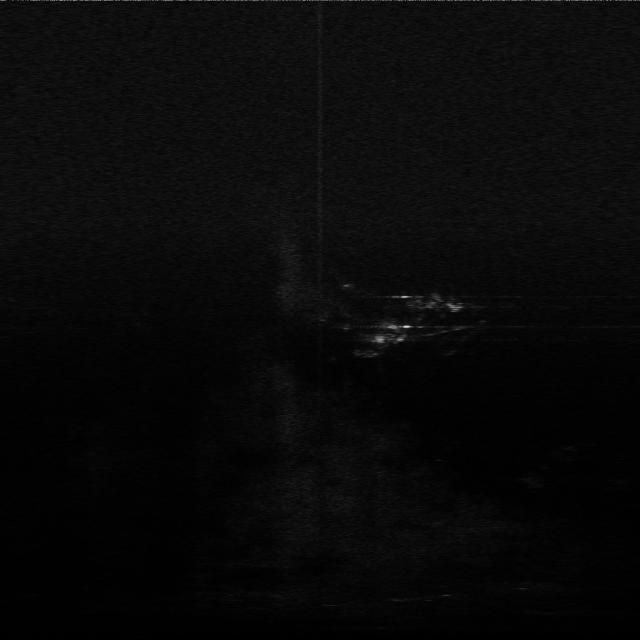rov: (439, 297, 472, 317)
